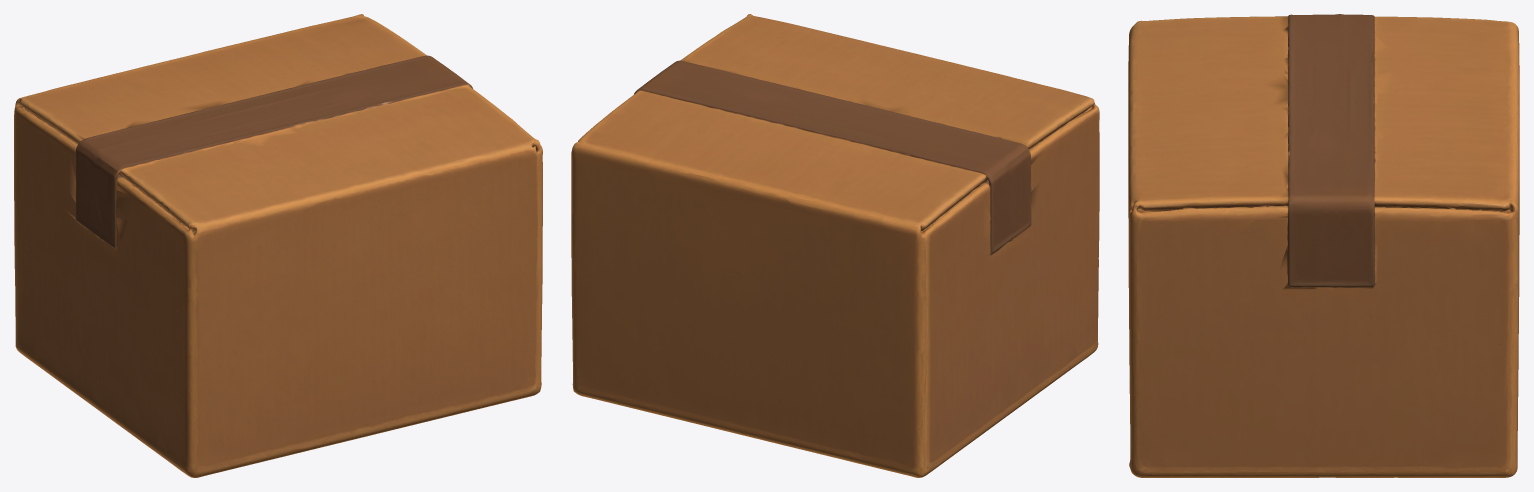
The model's file is GameCardboardBox.fbx.
The picture shows the model from 3 angles, left to right: view 1: azimuth 30°, elevation 25°; view 2: azimuth 150°, elevation 25°; view 3: azimuth 270°, elevation 25°; orthographic projection. The views are drawn at different scales.
Visible parts, largest first — view 1: GameCardboardBox; view 2: GameCardboardBox; view 3: GameCardboardBox.
Boxes of the visible parts, bbox=[...] form: GameCardboardBox: bbox=[14, 14, 542, 477]; GameCardboardBox: bbox=[571, 14, 1099, 477]; GameCardboardBox: bbox=[1128, 14, 1519, 477].
Bounding box in the file's own units: 62 × 43.07 × 53.87.
